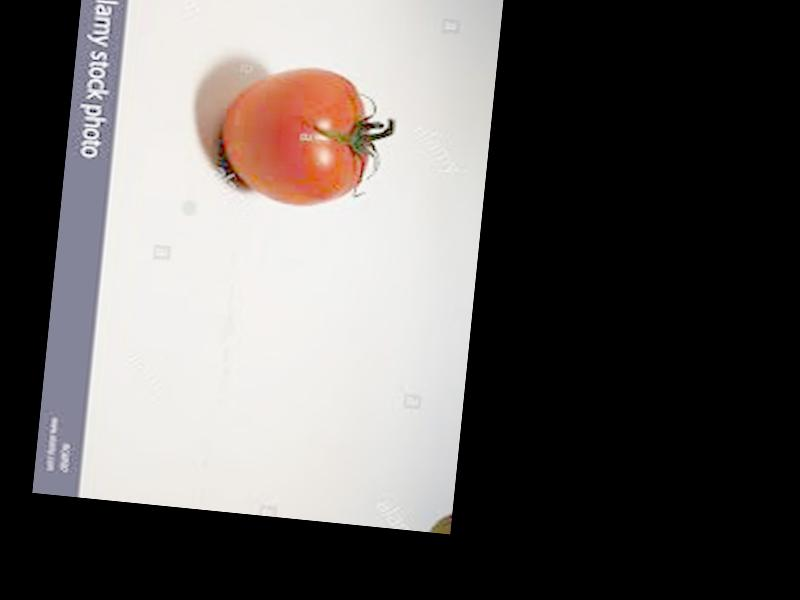Tomato: (215, 61, 374, 211)
